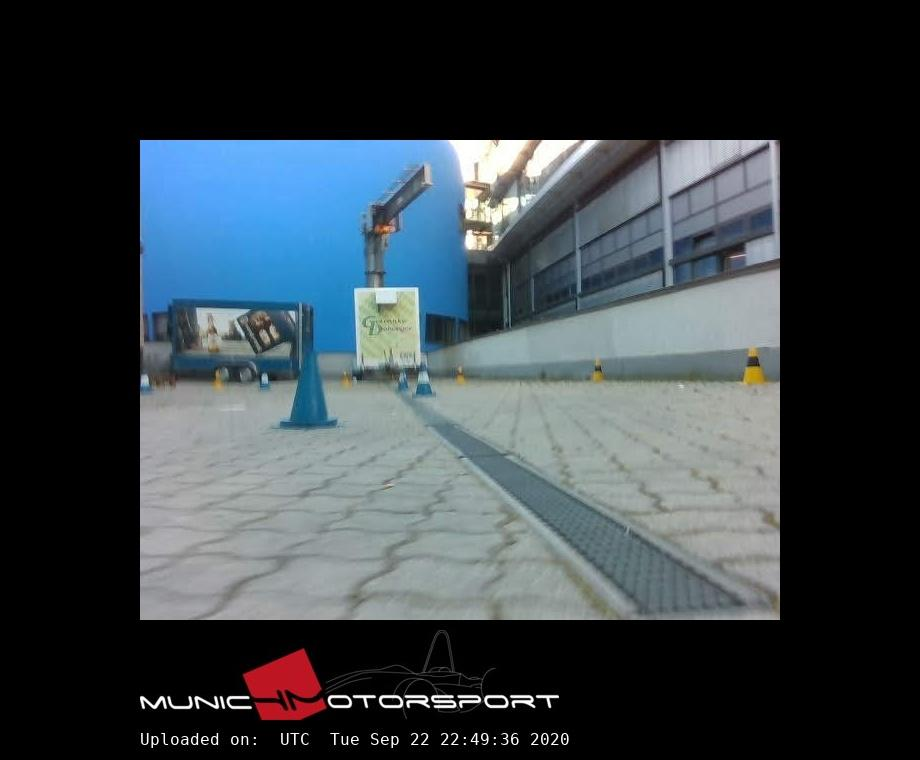blue_cone: (281, 352, 338, 427), (413, 363, 436, 397), (140, 368, 152, 394), (397, 367, 409, 389), (259, 370, 271, 389)
yellow_cone: (741, 348, 767, 386), (591, 357, 606, 382), (212, 367, 224, 387), (341, 371, 351, 390), (456, 366, 467, 383)
